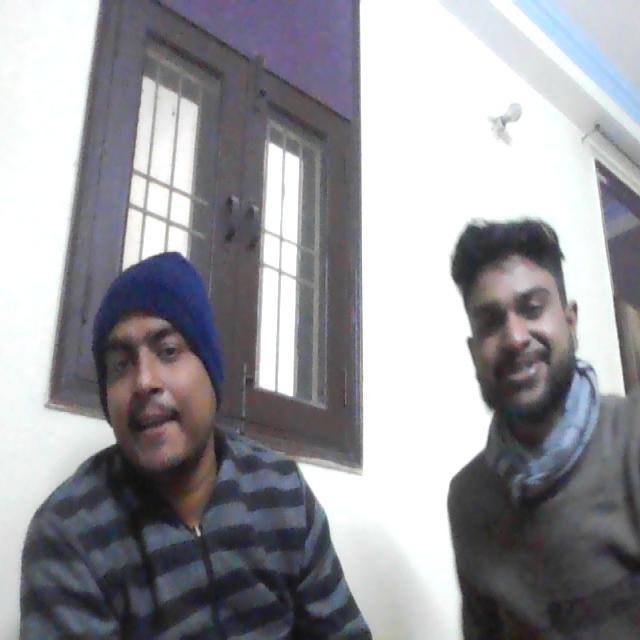real: (97, 253, 221, 488), (463, 204, 579, 423)
